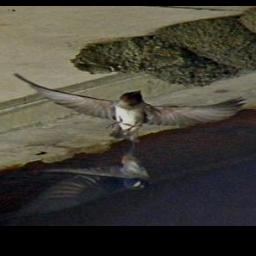Swallow: (9, 71, 251, 144)
